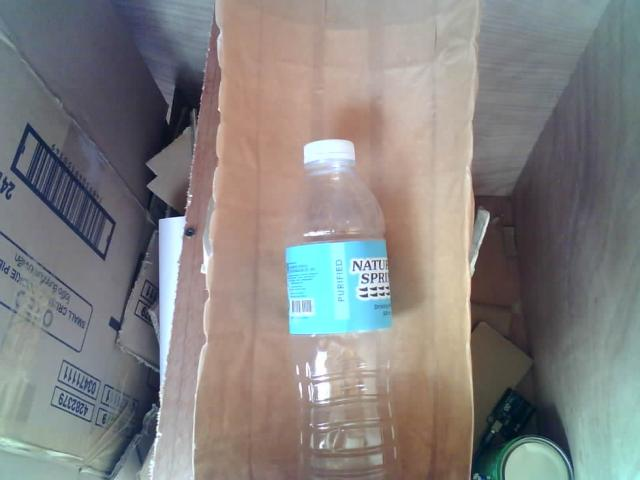small_bottle: (263, 131, 440, 480)
